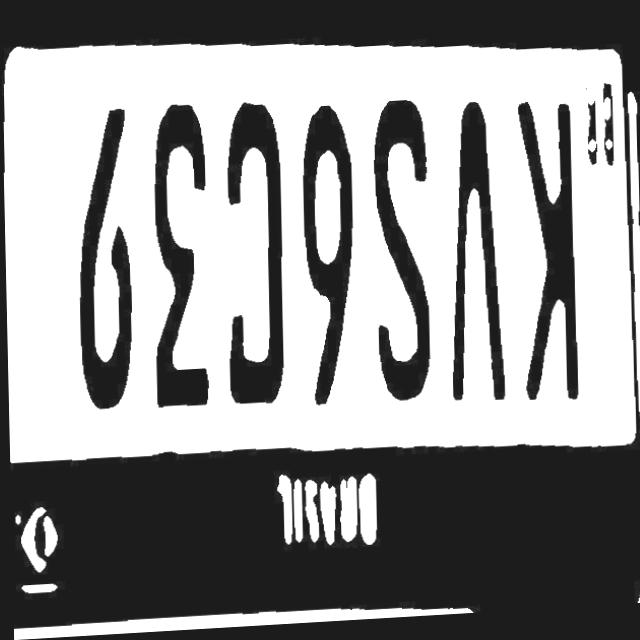3: (150, 108, 221, 421)
6: (298, 111, 360, 413)
9: (74, 102, 143, 425)
c: (217, 105, 298, 412)
k: (514, 96, 593, 399)
s: (369, 104, 445, 412)
v: (452, 107, 521, 401)
